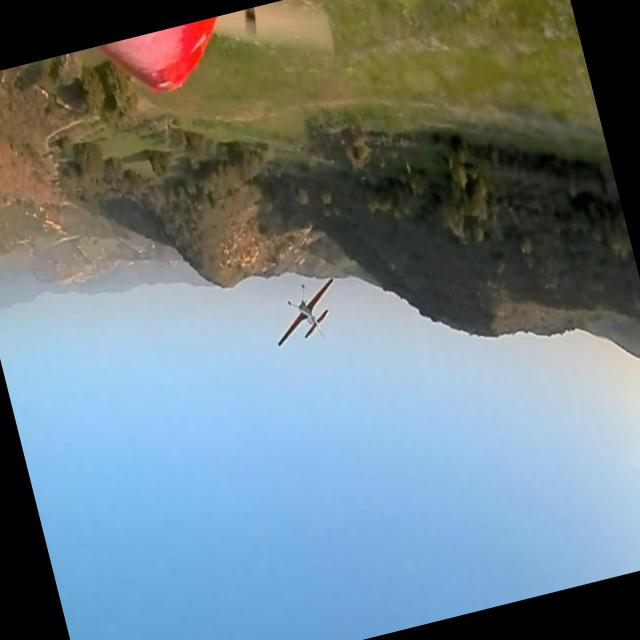UAV: (248, 237, 388, 366)
